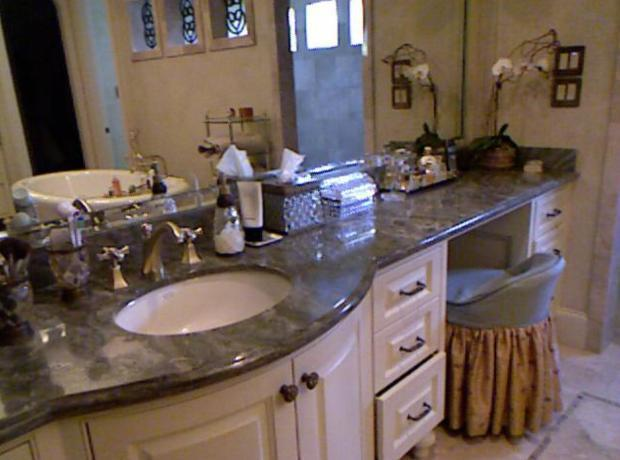Lavamanos: (95, 209, 308, 358)
